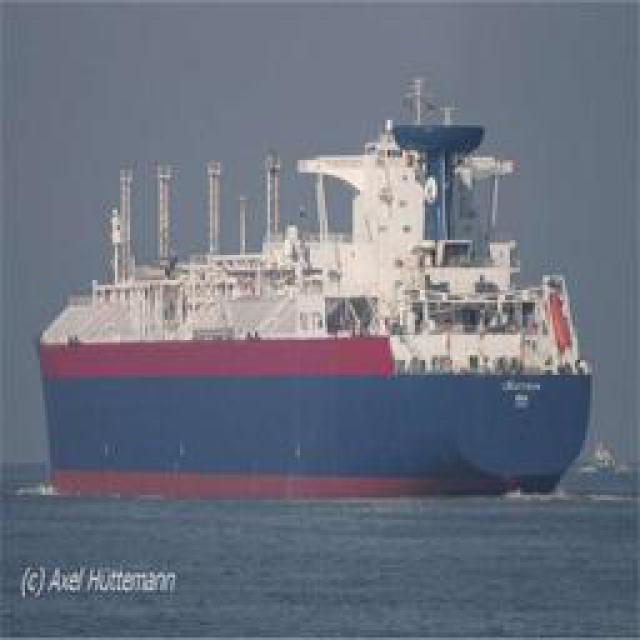Ship: (46, 70, 594, 495)
